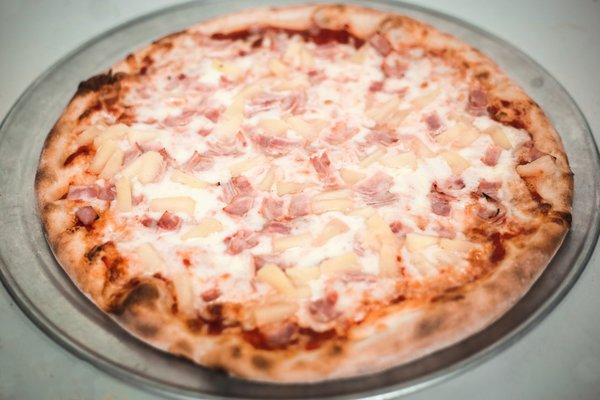sandwich: (35, 2, 568, 386)
